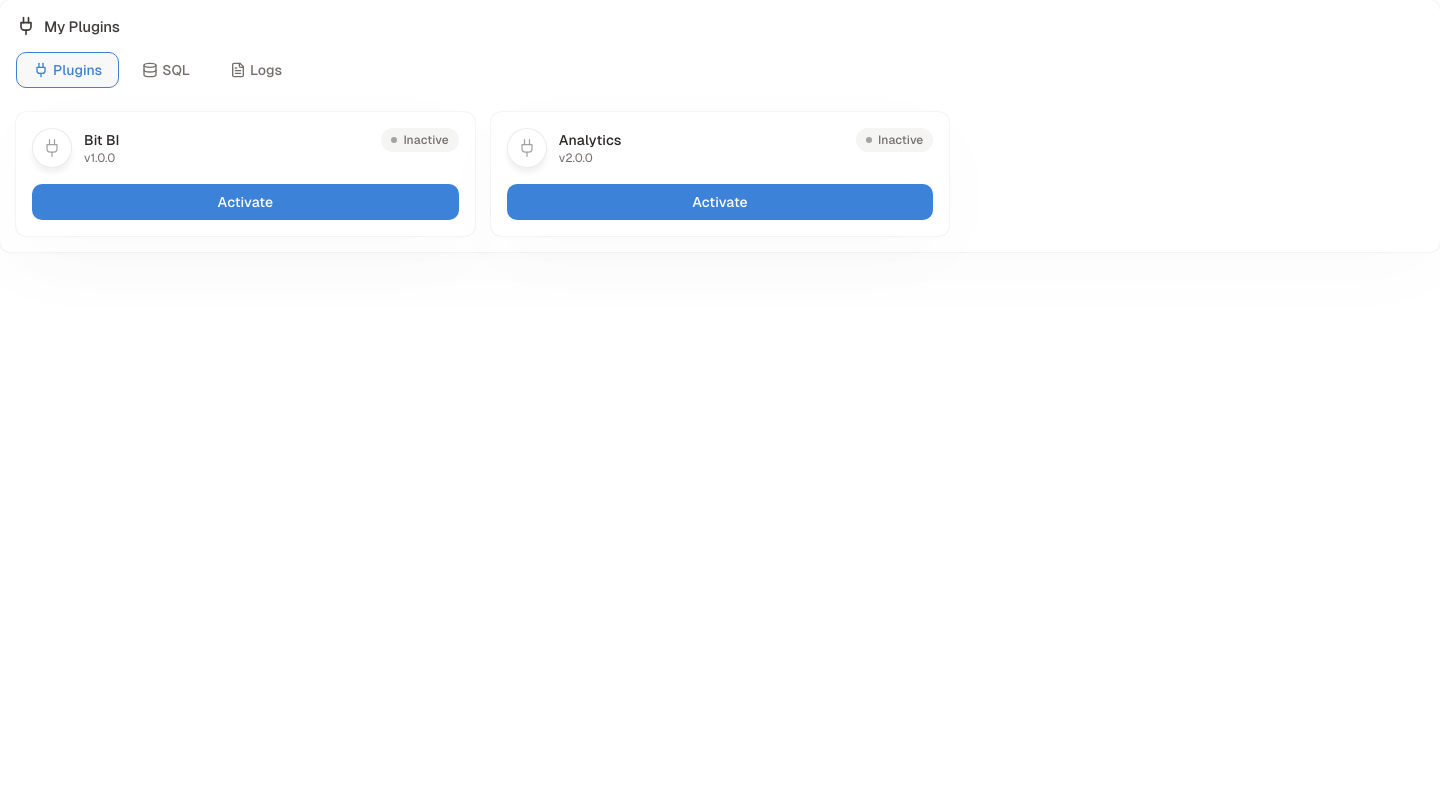
MyPluginsWidget › Activation Flow › should open activation dialog when Activate is clicked
Click Activate on first plugin (bit-bi)
Click the button "Activate" below "1.0.0" at (245, 202), box [32,184,459,220]
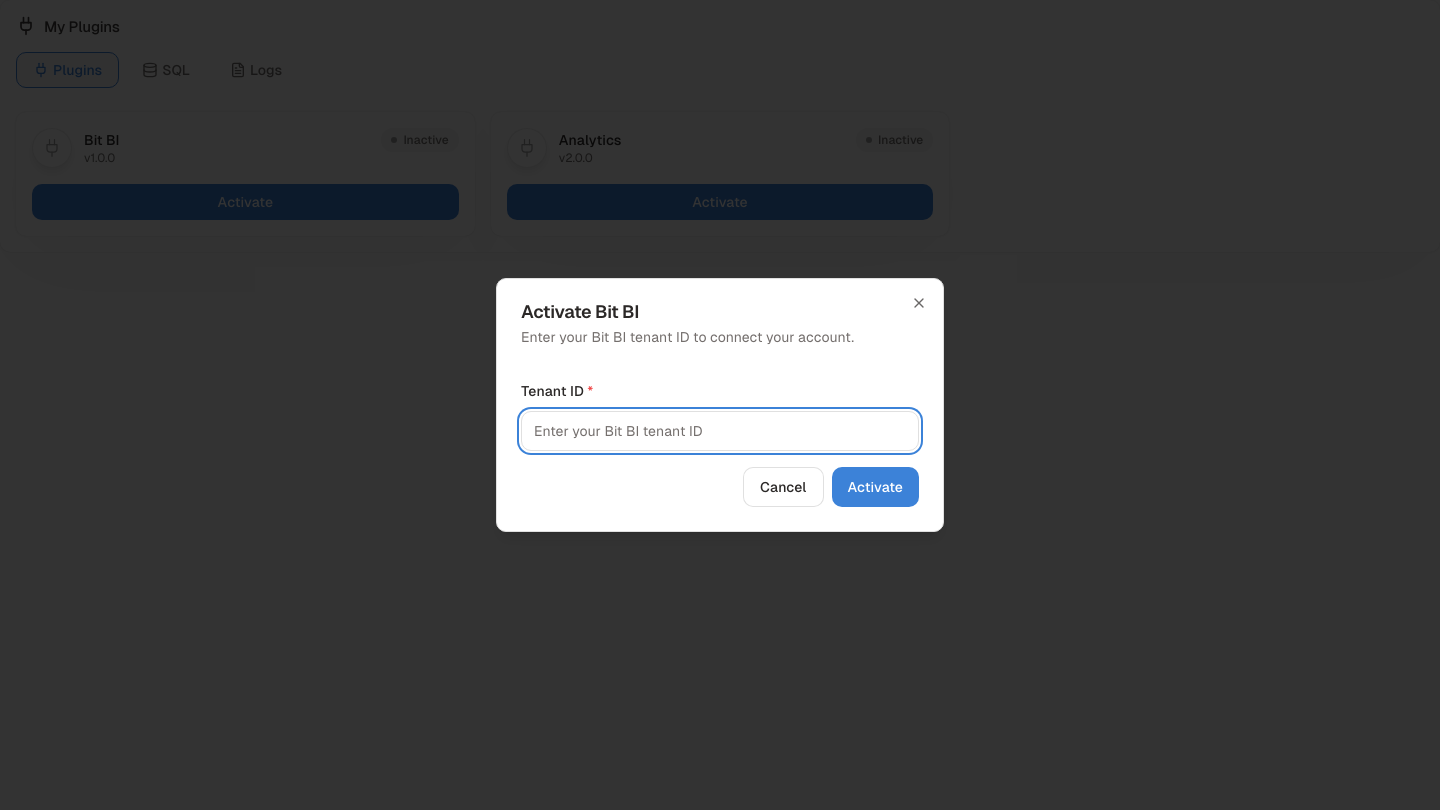
Now the heading "Activate Bit BI" is shown, box [521,301,639,322]
